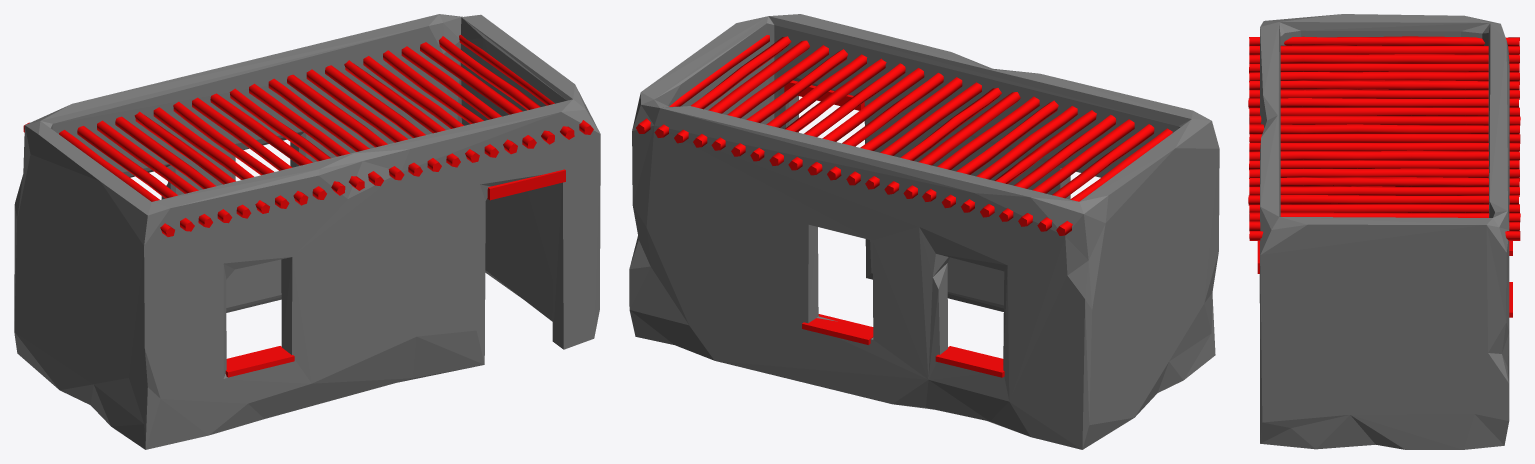
File: House02.fbx
3 renders of one model, left to right at view 1: azimuth 30°, elevation 25°; view 2: azimuth 150°, elevation 25°; view 3: azimuth 270°, elevation 25°, orthographic. The views are drawn at different scales.
Parts seen in each view (by area): view 1: House02; view 2: House02; view 3: House02.
Boxes of the visible parts, left/top/right/bottom form: House02: left=14, top=14, right=600, bottom=449; House02: left=629, top=14, right=1219, bottom=449; House02: left=1248, top=14, right=1520, bottom=449.
Size of the model in its own units: 600 by 300 by 327.
